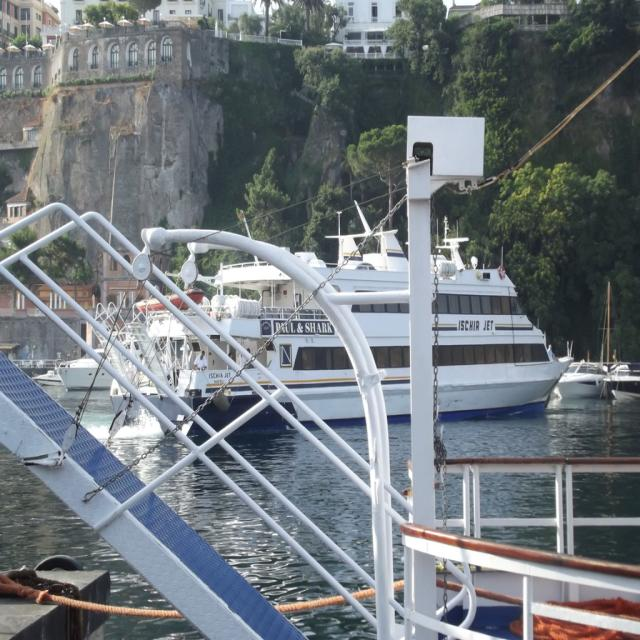Boat: (141, 198, 573, 420), (599, 284, 640, 394), (54, 343, 115, 391), (552, 365, 617, 401), (32, 367, 64, 386)
